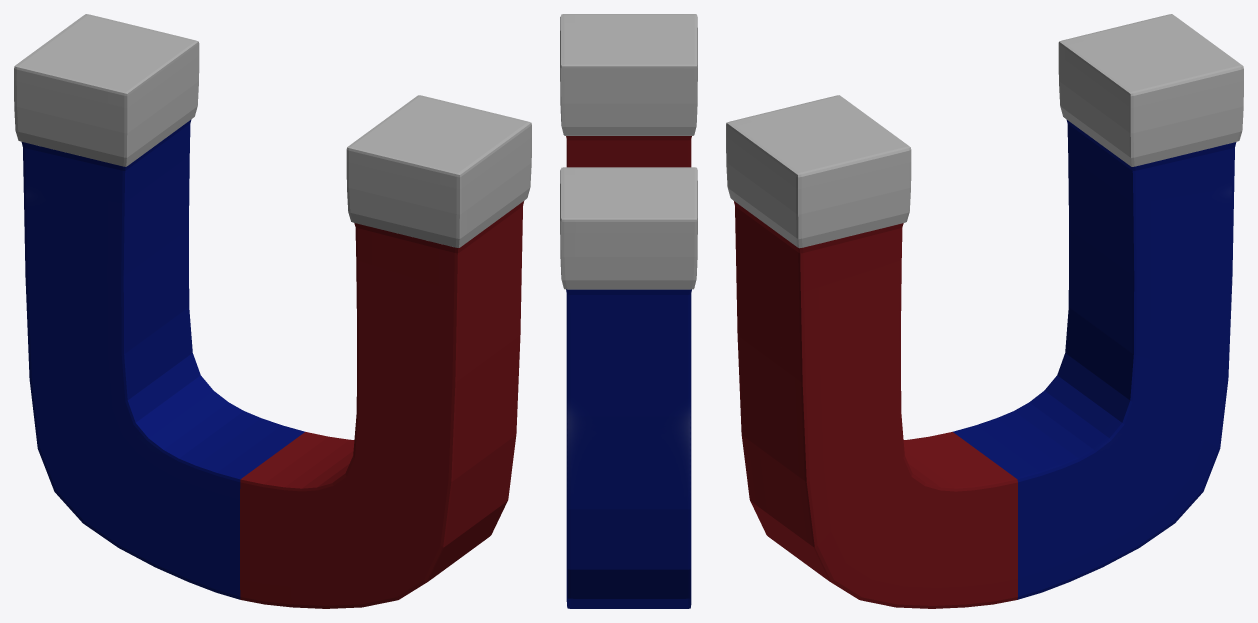
File: Magnet.fbx
The picture shows the model from 3 angles, left to right: view 1: azimuth 30°, elevation 25°; view 2: azimuth 150°, elevation 25°; view 3: azimuth 270°, elevation 25°; orthographic projection. The views are drawn at different scales.
Parts seen in each view (by area): view 1: Iman; view 2: Iman; view 3: Iman.
Part boxes in pixels (box(x1,y1,x2,y2)): Iman: box(14, 14, 531, 608); Iman: box(560, 14, 697, 608); Iman: box(726, 14, 1243, 608).
Bounding box in the file's own units: 93.72 × 131 × 127.
